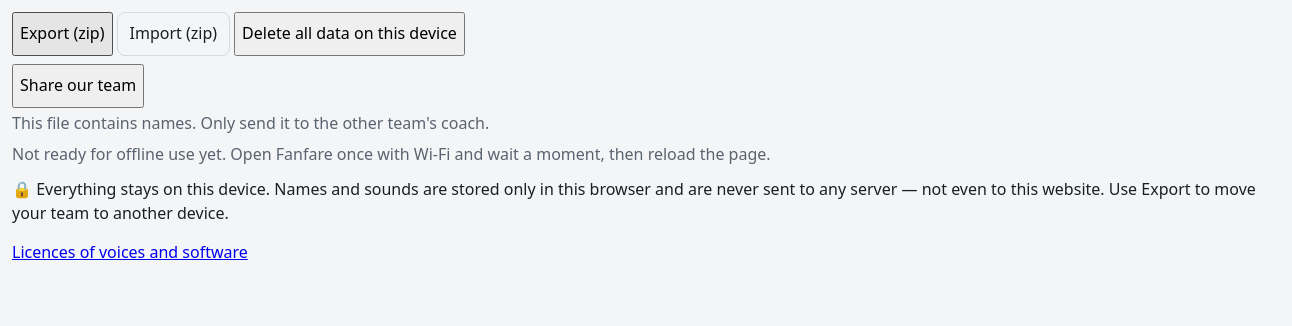
share our team › without players it explains instead of downloading
This screenshot has width=1292, height=326.
Click the button "Share our team".
click(78, 86)  # box [12,64,144,108]
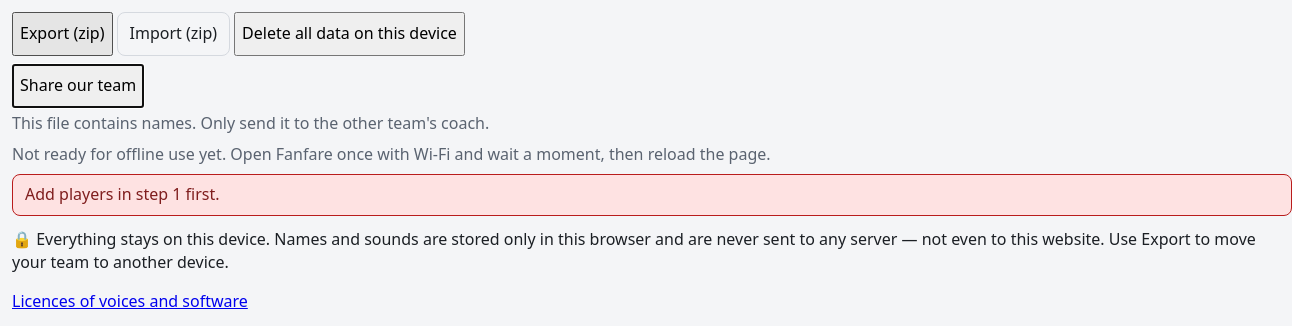
Check: the message reads "Add players in step 1 first.", box [25,183,220,205]
